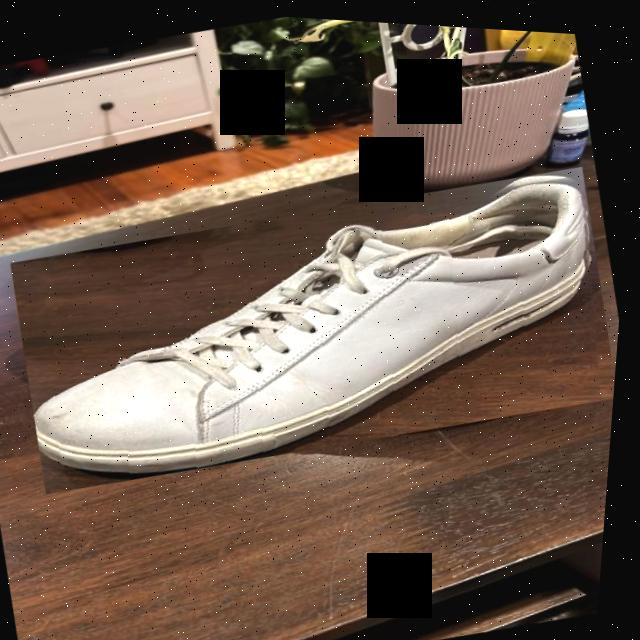shoe: (1, 132, 632, 519)
